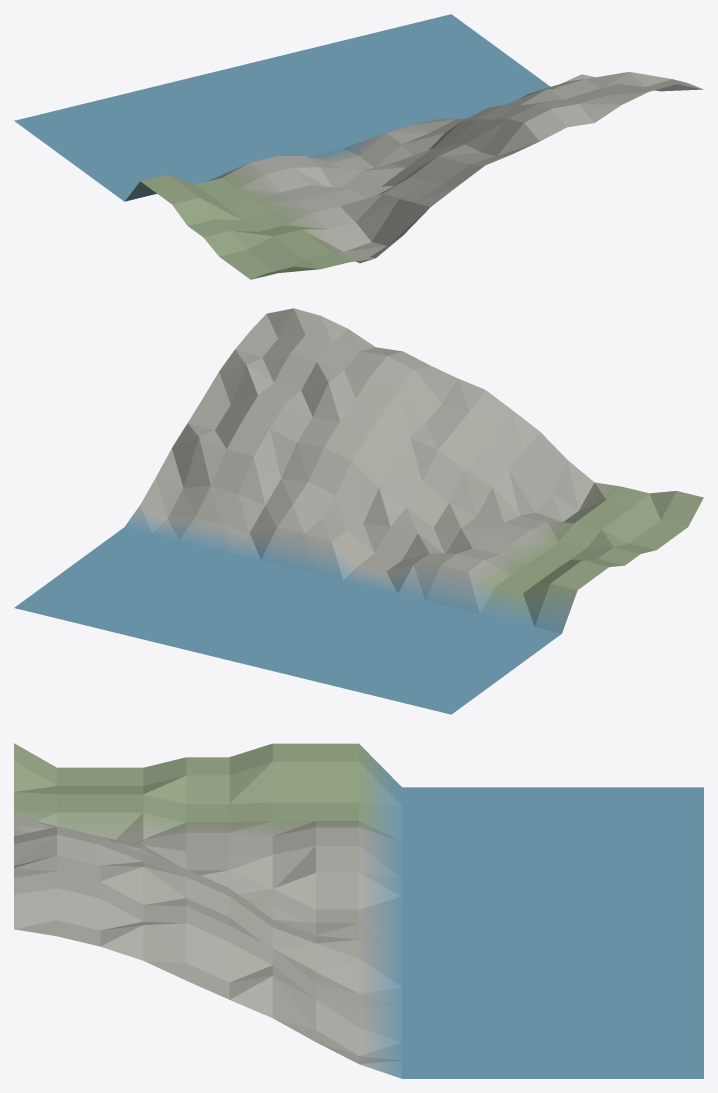
The picture shows the model from 3 angles, top to bottom: view 1: azimuth 30°, elevation 25°; view 2: azimuth 150°, elevation 25°; view 3: azimuth 270°, elevation 25°; orthographic projection. The views are drawn at different scales.
Bounding box in the file's own units: 32 × 8.49 × 32.
